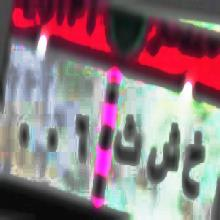0: (40, 115, 63, 163), (16, 116, 34, 160)
6: (69, 108, 94, 170)
khaa: (182, 127, 207, 203)
sheen: (144, 119, 180, 188)
thaa: (116, 118, 142, 170)
